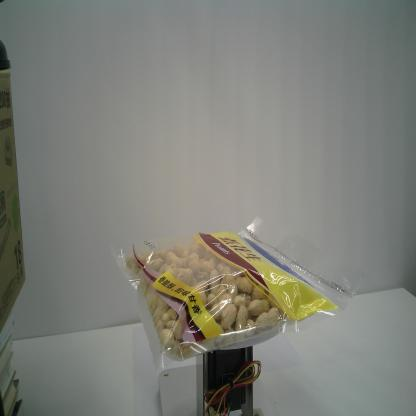Dried Food: (109, 213, 358, 373)
